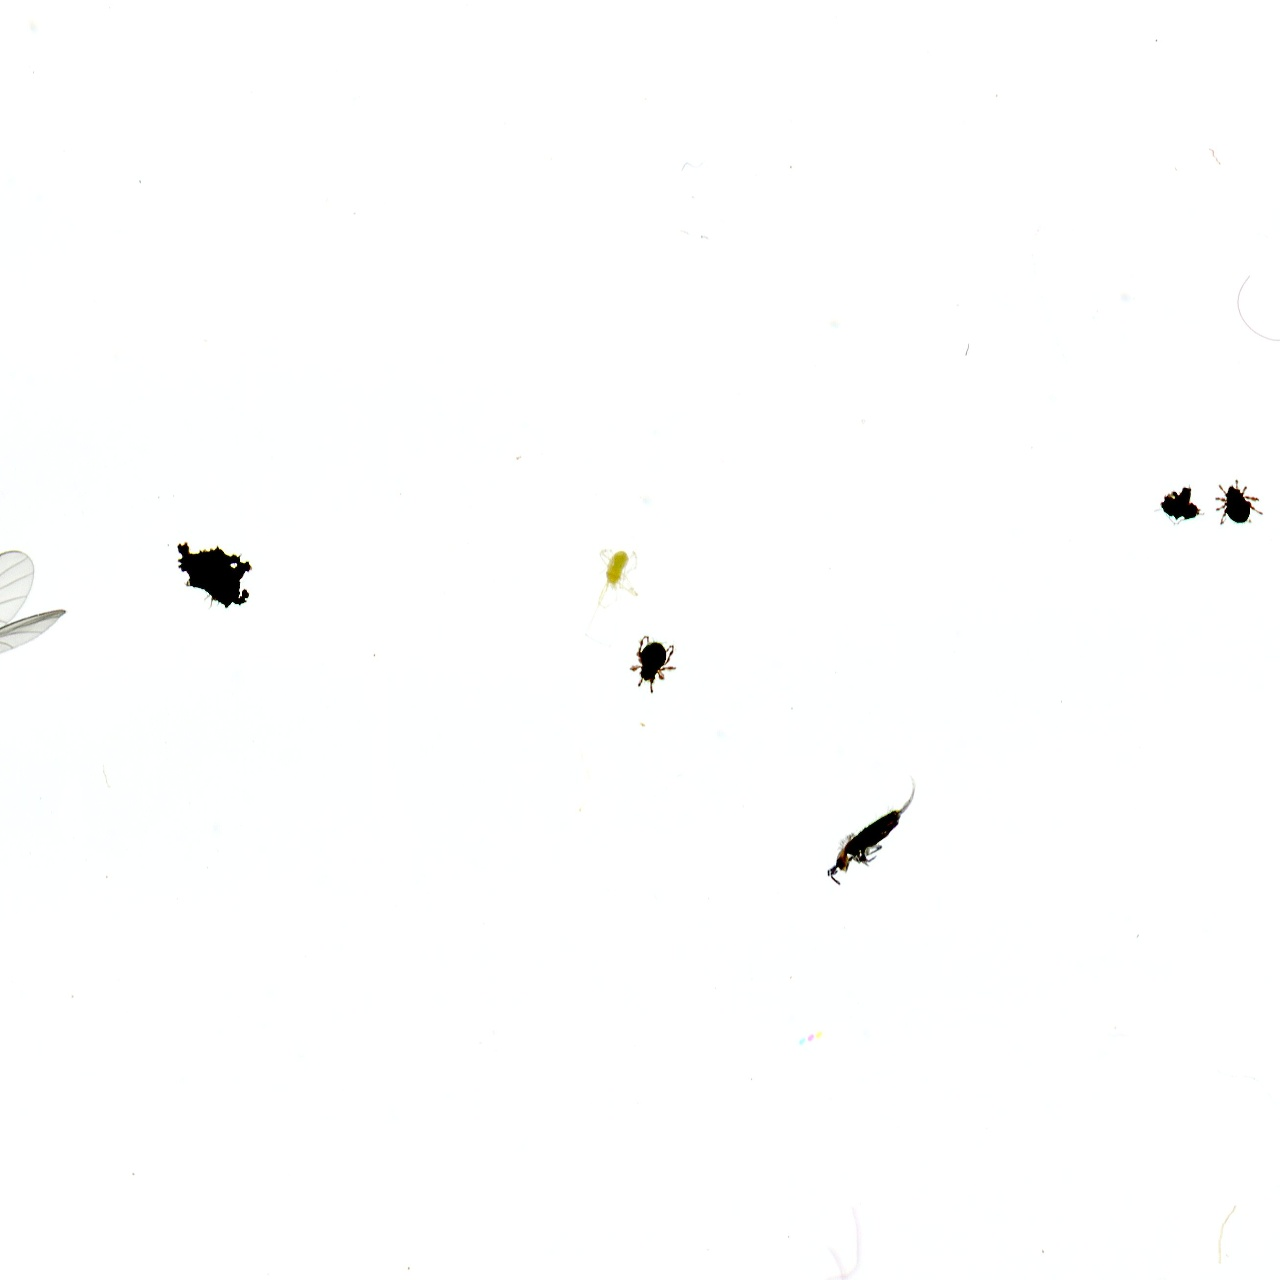arthropod: (0, 513, 112, 825), (811, 761, 937, 899), (580, 544, 642, 654), (628, 632, 679, 696), (1213, 478, 1264, 528)
